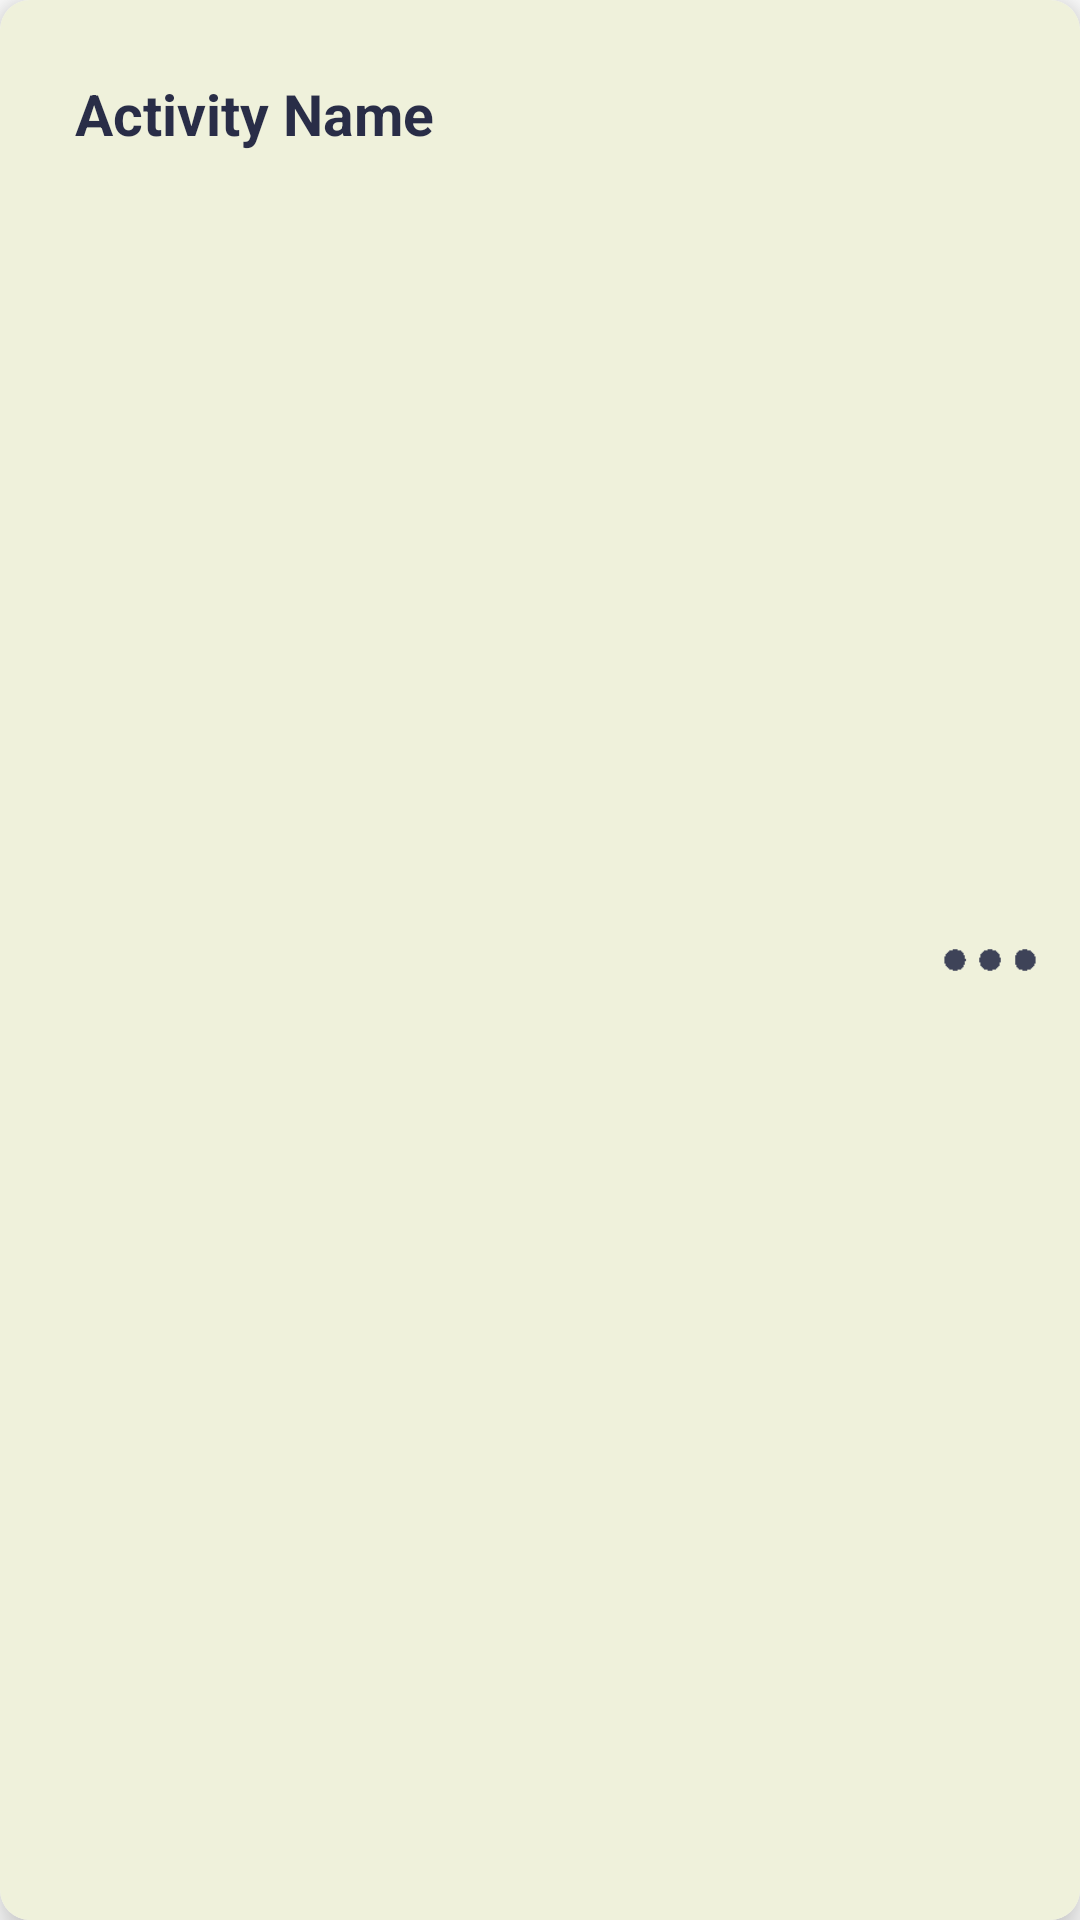

Icons on this 1080px×1920px Android screen, each with its box as Rect(x1, y1, x2, y2):
more: Rect(944, 949, 1036, 971)
